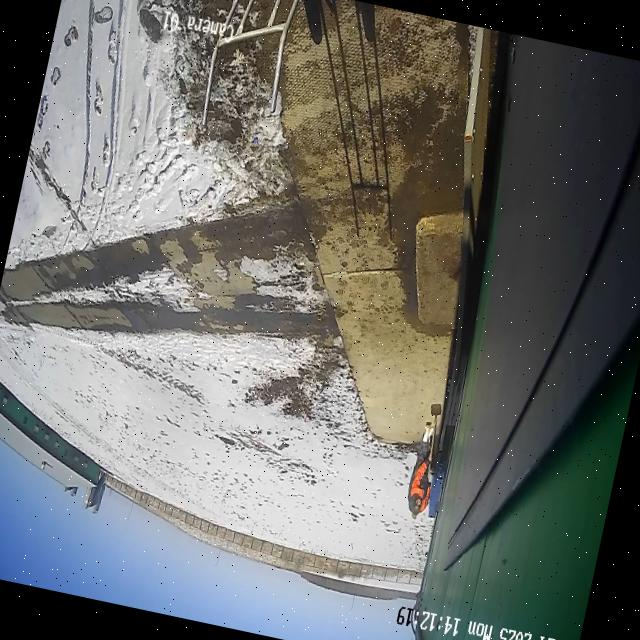Red uniform: (401, 418, 446, 523)
